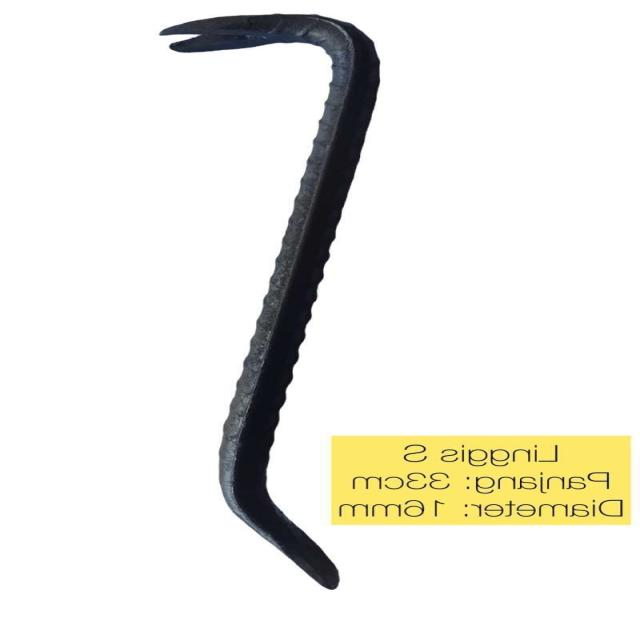Linggis: (162, 15, 388, 588)
